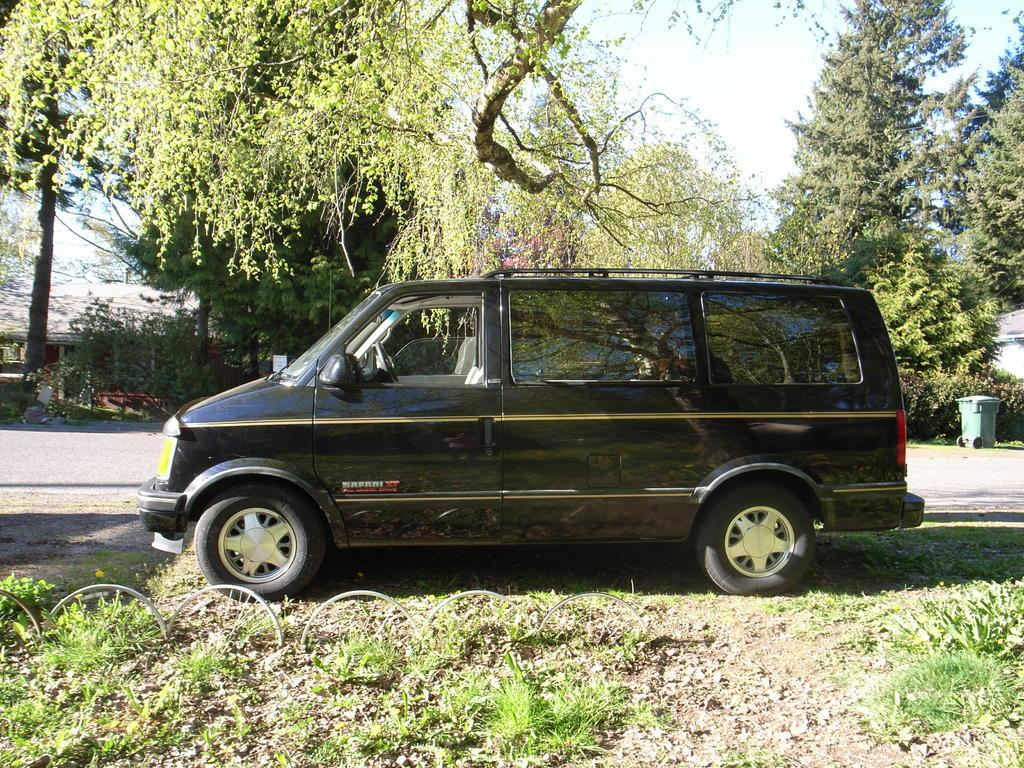vehicle: (140, 268, 924, 602)
